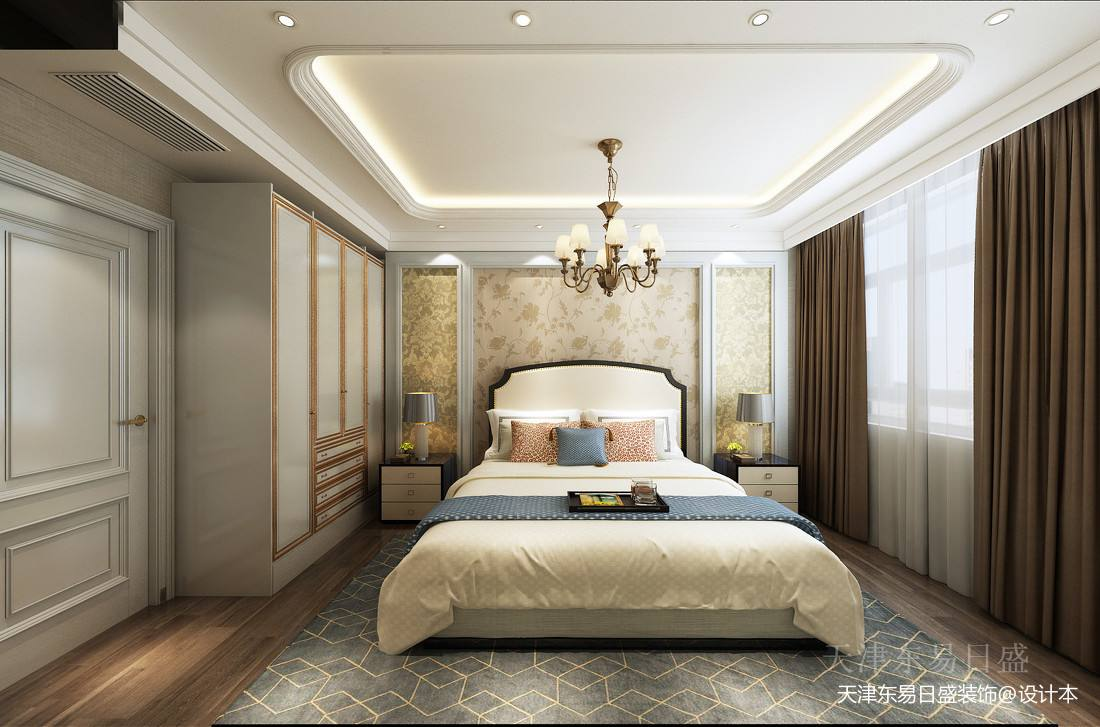床: (383, 467, 841, 660)
枕头: (491, 411, 671, 471)
灯: (546, 138, 667, 305), (736, 388, 782, 465), (396, 387, 442, 463), (984, 9, 1019, 32), (268, 12, 297, 34), (743, 9, 770, 32), (506, 11, 534, 33), (431, 220, 449, 234)
